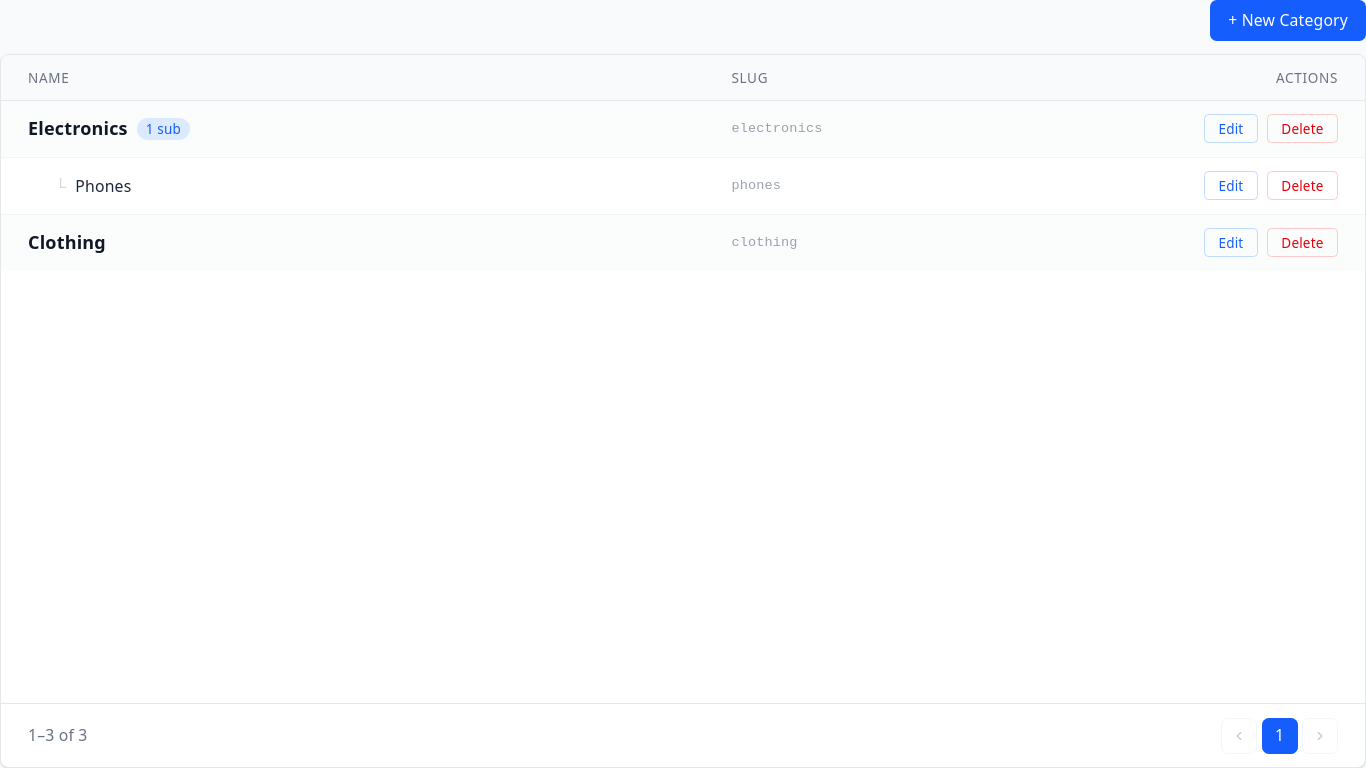
it: CategoryList › opens "Edit Category" modal with pre-filled values when Edit is clicked
The image size is (1366, 768).
Step 1. Click the button "Edit" in the row of "sub" → (1231, 129), box x1=1204 y1=114 x2=1258 y2=144
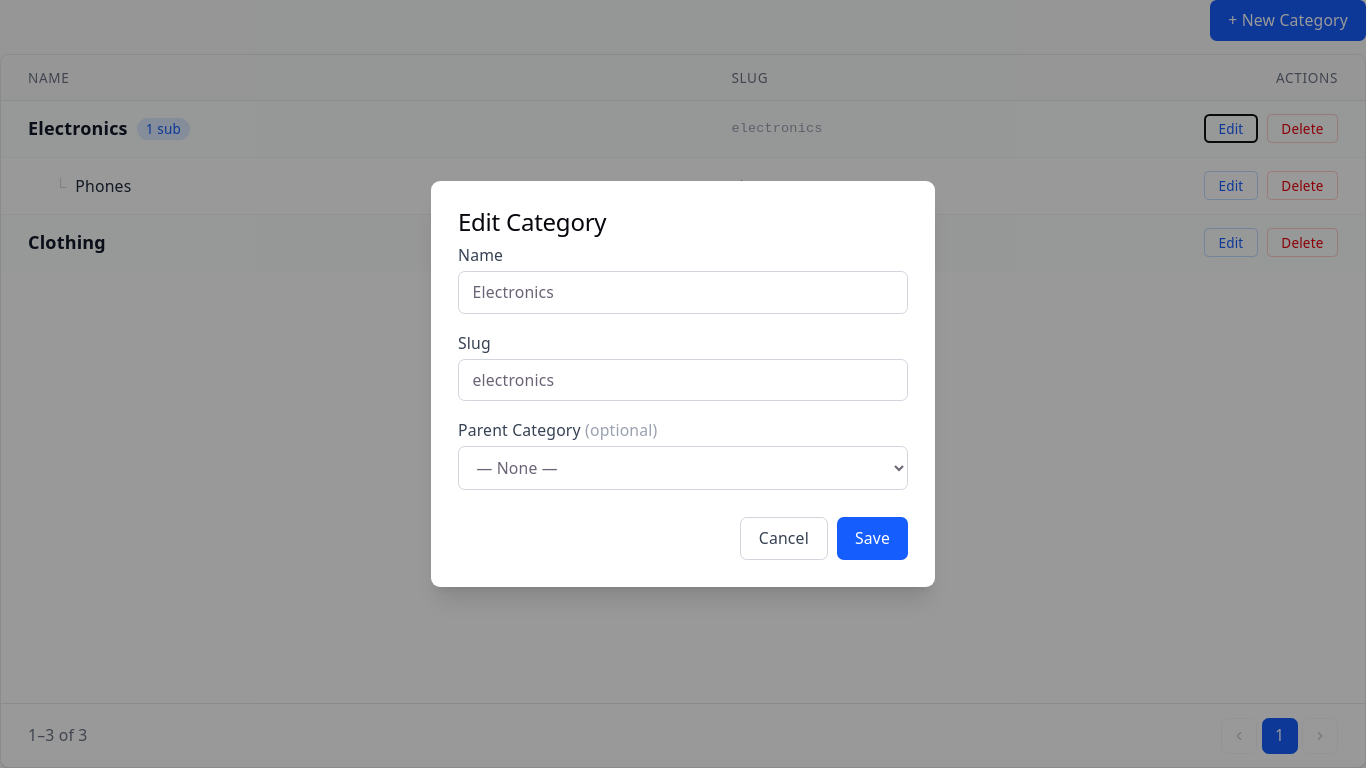
expect the heading "Edit Category" is shown: met, box x1=458 y1=205 x2=606 y2=238
expect the field showing "Electronics" is shown: met, box x1=458 y1=271 x2=908 y2=314
expect the field showing "electronics" is shown: met, box x1=458 y1=359 x2=908 y2=401
